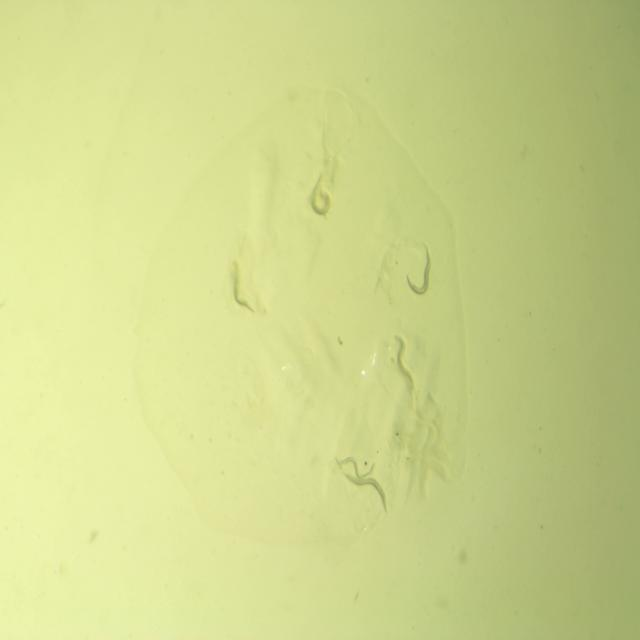worm: (339, 470, 390, 517), (403, 240, 434, 298), (229, 260, 257, 318), (391, 332, 417, 387), (332, 452, 377, 482), (308, 171, 334, 221)
